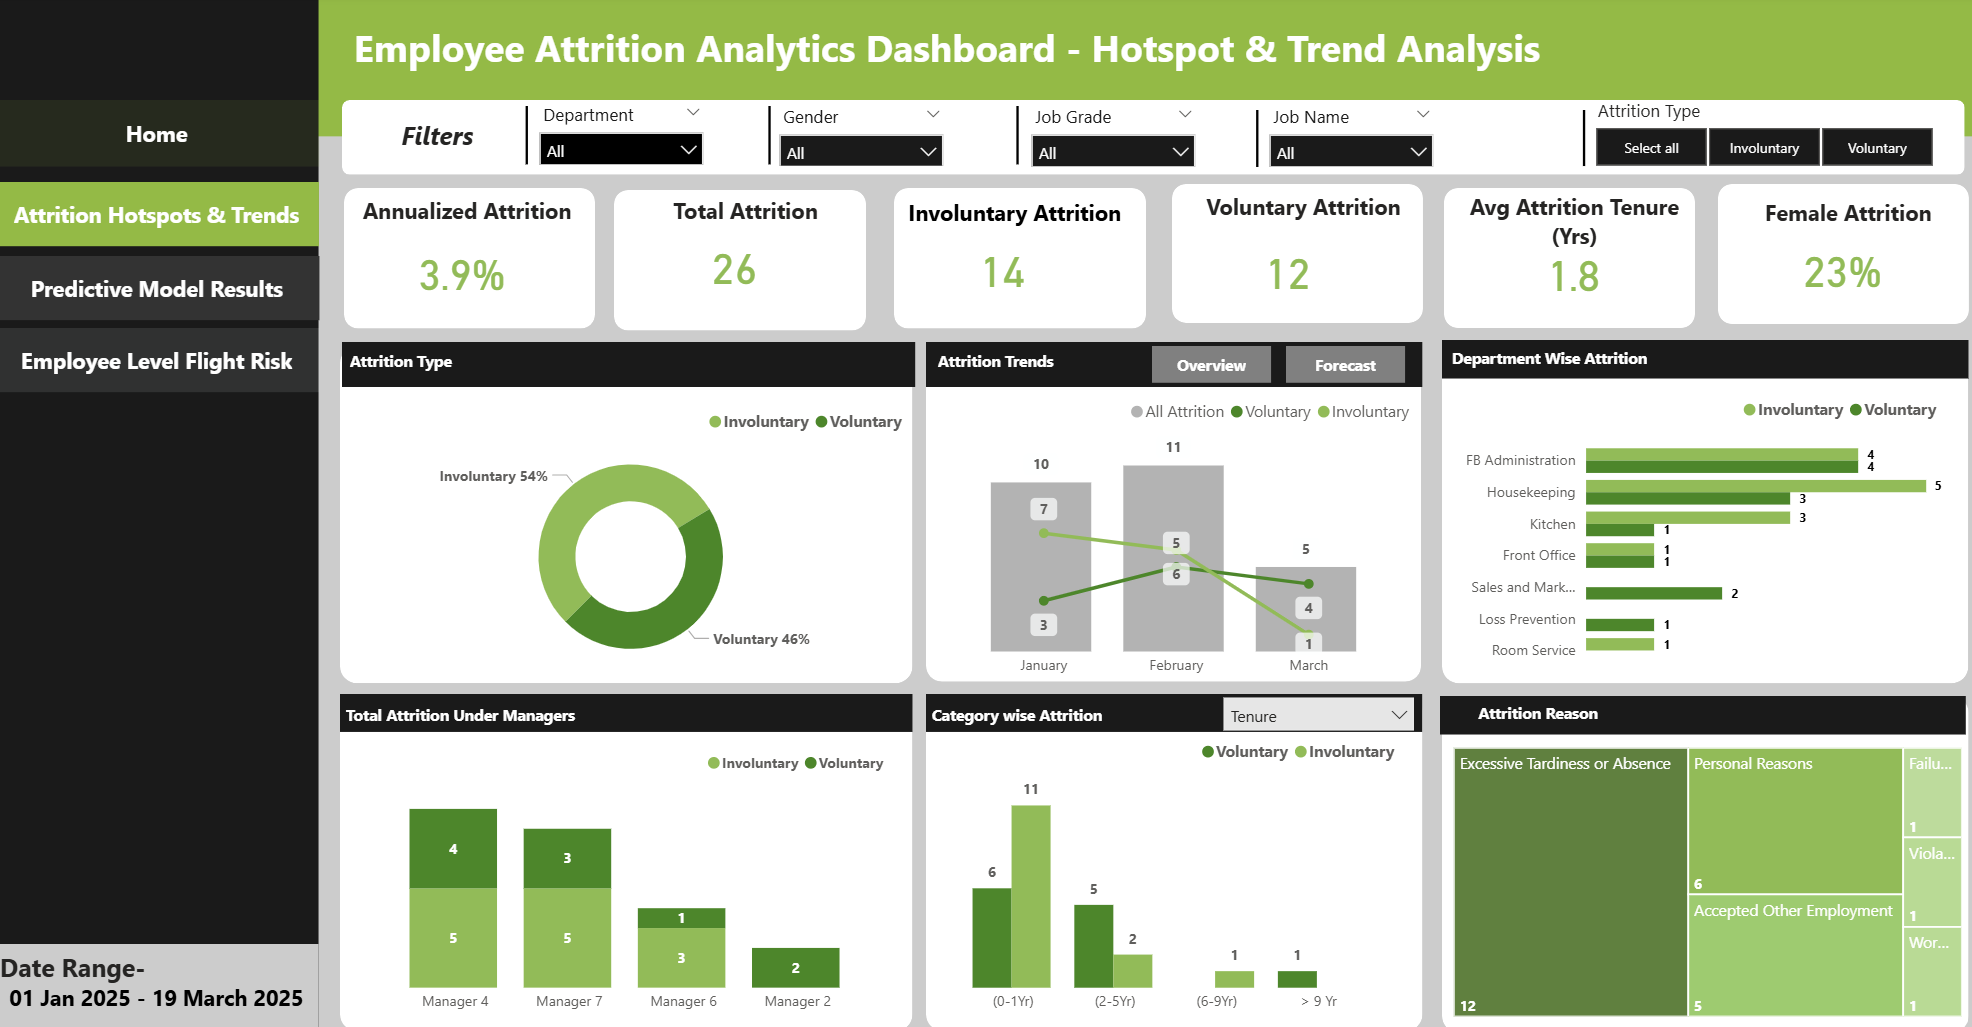

The page's visual inventory and layout, read from the dashboard file:
{"tool":"powerbi","page":{"name":"Attrition Hotspot & Trend analysis","canvas":[1720,900],"ordinal":1},"visuals":[{"type":"shape","box":[1009.2,162.3,215,119],"z":0,"group":"g2"},{"type":"shape","box":[1477.2,163.1,215,120],"z":0,"group":"g5"},{"type":"group","id":"g1","title":"Group 1","box":[1241.2,165.1,223.3,121.8],"z":0},{"type":"shape","box":[770.9,165.7,216,120.4],"z":0,"group":"g3"},{"type":"shape","box":[299.2,166.1,215,120.4],"z":0,"group":"g6"},{"type":"shape","box":[1241.7,166.9,215,120],"z":0,"group":"g1"},{"type":"shape","box":[530.6,167.2,216,120.4],"z":0,"group":"g4"},{"type":"group","id":"g2","title":"Group 1","box":[1009.2,162.3,225.4,119],"z":1000},{"type":"textbox","box":[773,168.4,203.5,41.5],"z":1000,"group":"g3"},{"type":"card","fields":{"Values":["Termination Report.TotalCount"]},"box":[555.5,199.2,154.4,66.8],"z":1000,"group":"g6"},{"type":"card","fields":{"Values":["Termination Report.InvolAtri"]},"box":[786.1,200.2,154.4,68.9],"z":1000,"group":"g4"},{"type":"textbox","box":[1009.2,163.7,225.4,57.9],"z":2000,"group":"g2"},{"type":"textbox","box":[1241.2,165.1,223.3,64.7],"z":2000,"group":"g1"},{"type":"group","id":"g3","title":"Group 1","box":[770.9,165.7,388.3,120.4],"z":2000},{"type":"textbox","box":[537.2,167.8,216.8,36.7],"z":2000,"group":"g4"},{"type":"textbox","box":[299.3,167.9,216,39.5],"z":2000,"group":"g6"},{"type":"textbox","box":[1477.2,169.7,223.3,36.7],"z":2000,"group":"g5"},{"type":"card","fields":{"Values":["Termination Report.VolAtri"]},"box":[1057.5,201,101.7,68.5],"z":2000,"group":"g3"},{"type":"card","fields":{"Values":["Avg(Termination Report.Tenure in Year)"]},"box":[1301.9,203.5,101.7,68.5],"z":3000},{"type":"group","id":"g4","title":"Group 1","box":[530.6,167.2,409.9,120.4],"z":4000},{"type":"shape","box":[797.6,600.2,425.3,288.9],"z":5000},{"type":"group","id":"g5","title":"Group 1","box":[1477.2,163.1,223.3,120],"z":6000},{"type":"shape","box":[0.5,0,215,120],"z":7000},{"type":"card","fields":{"Values":["Termination Report.Female Percentage"]},"box":[1519.3,200.3,127.3,68.9],"z":8000},{"type":"shape","box":[0,0,1720,121.9],"z":9000},{"type":"shape","box":[297.1,600.2,490.4,288.9],"z":10000},{"type":"shape","box":[297.1,600.2,490.4,32.6],"z":11000},{"type":"shape","box":[297.1,301.1,490.4,288.9],"z":12000},{"type":"shape","box":[297.7,297.7,490.9,38.6],"z":13000},{"type":"shape","box":[0,0,278,900],"z":14000},{"type":"textbox","box":[303.5,18.2,1395.7,57.1],"z":16000},{"type":"group","id":"g6","title":"Group 1","box":[299.2,166.1,410.7,120.4],"z":17000},{"type":"shape","box":[298,90,1390,64],"z":18000},{"type":"textbox","box":[328.3,100.4,101.9,48.9],"z":19000},{"type":"shape","box":[429.2,95.4,52.7,50],"z":20000},{"type":"slicer","fields":{"Values":["Termination Report.Job Name"]},"box":[1083.5,89.8,160.1,58.6],"z":21000},{"type":"slicer","fields":{"Values":["Termination Report.Sex"]},"box":[663,89.9,160,58],"z":22000},{"type":"slicer","fields":{"Values":["Termination Report.Department Name"]},"box":[456.8,87.9,160.1,58.6],"z":23000},{"type":"shape","box":[625.2,96.2,78,50],"z":24000},{"type":"shape","box":[837.2,96.2,78,50],"z":25000},{"type":"shape","box":[1240.4,301.2,450.9,289],"z":26000},{"type":"shape","box":[1239.5,601.9,451.2,288.5],"z":27000},{"type":"shape","box":[1239.7,296.7,451,33.2],"z":28000},{"type":"shape","box":[1239.1,601.2,450.4,33],"z":29000},{"type":"textbox","box":[297.1,602.3,225.9,36.6],"z":30000},{"type":"textbox","box":[299.1,299.1,211.6,36.6],"z":31000},{"type":"textbox","box":[1227.3,601.2,192,37.6],"z":32000},{"type":"treemap","fields":{"Group":["Termination Report.Attrition Reason"],"Values":["CountNonNull(Termination Report.EID)"]},"box":[1245.6,640.3,445.1,240.1],"z":33000},{"type":"clusteredBarChart","title":"Y_Attrition % and Attrition Count by Year","fields":{"Category":["Termination Report.Department Name"],"Y":["CountNonNull(Termination Report.EID)"],"Series":["Termination Report.Termination Type"]},"box":[1243.8,336.4,429.8,253.3],"z":37000},{"type":"textbox","box":[0,814,278.2,85.1],"z":40000},{"type":"slicer","fields":{"Values":["Termination Report.Job Grade"]},"box":[878.5,89.8,160.1,58.6],"z":41000},{"type":"shape","box":[1038.6,99.6,87.9,48.8],"z":42000},{"type":"actionButton","box":[0,161.4,278.3,55],"z":43000},{"type":"actionButton","box":[0,91.6,278.8,57],"z":44000},{"type":"actionButton","box":[0,286.9,278.8,54.9],"z":45000},{"type":"shape","box":[798.1,318.5,424.1,270.4],"z":46000},{"type":"lineStackedColumnComboChart","fields":{"Y":["CountNonNull(Termination Report.EID)"],"Y2":["Termination Report.VolAtri","Termination Report.InvolAtri"],"Category":["Termination Report.NMonth"]},"box":[803.7,337,418.5,255.6],"z":47000},{"type":"clusteredColumnChart","fields":{"Category":["Termination Report.Tenure_Group"],"Series":["Termination Report.Termination Type"],"Y":["CountNonNull(Termination Report.EID)"]},"box":[797.6,628.7,411,252.3],"z":48000},{"type":"textbox","box":[1243.2,278.8,248.2,50.9],"z":49000},{"type":"shape","box":[797.7,297.7,425,38.6],"z":50000},{"type":"shape","box":[797.6,600.2,425,32.6],"z":51000},{"type":"donutChart","fields":{"Y":["CountNonNull(Termination Report.EID)"],"Category":["Termination Report.Termination Type"]},"box":[303.2,345.9,484.3,242.1],"z":52000},{"type":"textbox","box":[797.6,602.3,189.2,38.7],"z":53000},{"type":"textbox","box":[803.7,299.1,205.5,34.6],"z":54000},{"type":"textbox","box":[1369.4,83.4,148.5,34.6],"z":55000},{"type":"slicer","fields":{"Values":["Termination Report.Termination Type"]},"box":[1347,107.8,338,46],"z":56000},{"type":"actionButton","box":[0,223.8,278.8,54.9],"z":57000},{"type":"slicer","fields":{"Values":["AttritionParameter.AttritionParameter"]},"box":[1043.8,592.1,183.1,40.7],"z":58000},{"type":"columnChart","fields":{"Category":["Termination Report.newManagerName"],"Y":["Termination Report.Top 3 Managers Attrition"],"Series":["Termination Report.Termination Type"]},"box":[311.3,638.9,459.8,242.1],"z":59000},{"type":"card","fields":{"Values":["Termination Report.Annualized Attrition %"]},"box":[341.8,203.5,116,67.1],"z":61000},{"type":"shape","box":[1302.3,100.2,120,48],"z":62000},{"type":"actionButton","box":[992.6,301.9,101.9,31.5],"z":63000},{"type":"actionButton","box":[1107.4,301.9,101.9,31.5],"z":64000}]}

Visuals, with their boxes on the page's 1720x900 design canvas (x1, y1, x2, y2). These are canvas units, not pixel positions in the 1972x1027 screenshot, which may show the page scaled, cropped or inside an application window:
shape: [x1=1009, y1=162, x2=1224, y2=281]
shape: [x1=1477, y1=163, x2=1692, y2=283]
"Group 1" group: [x1=1241, y1=165, x2=1464, y2=287]
shape: [x1=771, y1=166, x2=987, y2=286]
shape: [x1=299, y1=166, x2=514, y2=286]
shape: [x1=1242, y1=167, x2=1457, y2=287]
shape: [x1=531, y1=167, x2=747, y2=288]
"Group 1" group: [x1=1009, y1=162, x2=1235, y2=281]
textbox: [x1=773, y1=168, x2=976, y2=210]
card - Termination Report.TotalCount: [x1=556, y1=199, x2=710, y2=266]
card - Termination Report.InvolAtri: [x1=786, y1=200, x2=940, y2=269]
textbox: [x1=1009, y1=164, x2=1235, y2=222]
textbox: [x1=1241, y1=165, x2=1464, y2=230]
"Group 1" group: [x1=771, y1=166, x2=1159, y2=286]
textbox: [x1=537, y1=168, x2=754, y2=204]
textbox: [x1=299, y1=168, x2=515, y2=207]
textbox: [x1=1477, y1=170, x2=1700, y2=206]
card - Termination Report.VolAtri: [x1=1058, y1=201, x2=1159, y2=270]
card - Avg(Termination Report.Tenure in Year): [x1=1302, y1=204, x2=1404, y2=272]
"Group 1" group: [x1=531, y1=167, x2=940, y2=288]
shape: [x1=798, y1=600, x2=1223, y2=889]
"Group 1" group: [x1=1477, y1=163, x2=1700, y2=283]
shape: [x1=0, y1=0, x2=216, y2=120]
card - Termination Report.Female Percentage: [x1=1519, y1=200, x2=1647, y2=269]
shape: [x1=0, y1=0, x2=1720, y2=122]
shape: [x1=297, y1=600, x2=788, y2=889]
shape: [x1=297, y1=600, x2=788, y2=633]
shape: [x1=297, y1=301, x2=788, y2=590]
shape: [x1=298, y1=298, x2=789, y2=336]
shape: [x1=0, y1=0, x2=278, y2=900]
textbox: [x1=304, y1=18, x2=1699, y2=75]
"Group 1" group: [x1=299, y1=166, x2=710, y2=286]
shape: [x1=298, y1=90, x2=1688, y2=154]
textbox: [x1=328, y1=100, x2=430, y2=149]
shape: [x1=429, y1=95, x2=482, y2=145]
slicer - Termination Report.Job Name: [x1=1084, y1=90, x2=1244, y2=148]
slicer - Termination Report.Sex: [x1=663, y1=90, x2=823, y2=148]
slicer - Termination Report.Department Name: [x1=457, y1=88, x2=617, y2=146]
shape: [x1=625, y1=96, x2=703, y2=146]
shape: [x1=837, y1=96, x2=915, y2=146]
shape: [x1=1240, y1=301, x2=1691, y2=590]
shape: [x1=1240, y1=602, x2=1691, y2=890]
shape: [x1=1240, y1=297, x2=1691, y2=330]
shape: [x1=1239, y1=601, x2=1690, y2=634]
textbox: [x1=297, y1=602, x2=523, y2=639]
textbox: [x1=299, y1=299, x2=511, y2=336]
textbox: [x1=1227, y1=601, x2=1419, y2=639]
treemap - Termination Report.Attrition Reason x CountNonNull(Termination Report.EID): [x1=1246, y1=640, x2=1691, y2=880]
"Y_Attrition % and Attrition Count by Year" clusteredBarChart: [x1=1244, y1=336, x2=1674, y2=590]
textbox: [x1=0, y1=814, x2=278, y2=899]
slicer - Termination Report.Job Grade: [x1=878, y1=90, x2=1039, y2=148]
shape: [x1=1039, y1=100, x2=1126, y2=148]
actionButton: [x1=0, y1=161, x2=278, y2=216]
actionButton: [x1=0, y1=92, x2=279, y2=149]
actionButton: [x1=0, y1=287, x2=279, y2=342]
shape: [x1=798, y1=318, x2=1222, y2=589]
lineStackedColumnComboChart - CountNonNull(Termination Report.EID) x Termination Report.VolAtri: [x1=804, y1=337, x2=1222, y2=593]
clusteredColumnChart - Termination Report.Tenure_Group x Termination Report.Termination Type: [x1=798, y1=629, x2=1209, y2=881]
textbox: [x1=1243, y1=279, x2=1491, y2=330]
shape: [x1=798, y1=298, x2=1223, y2=336]
shape: [x1=798, y1=600, x2=1223, y2=633]
donutChart - CountNonNull(Termination Report.EID) x Termination Report.Termination Type: [x1=303, y1=346, x2=788, y2=588]
textbox: [x1=798, y1=602, x2=987, y2=641]
textbox: [x1=804, y1=299, x2=1009, y2=334]
textbox: [x1=1369, y1=83, x2=1518, y2=118]
slicer - Termination Report.Termination Type: [x1=1347, y1=108, x2=1685, y2=154]
actionButton: [x1=0, y1=224, x2=279, y2=279]
slicer - AttritionParameter.AttritionParameter: [x1=1044, y1=592, x2=1227, y2=633]
columnChart - Termination Report.newManagerName x Termination Report.Top 3 Managers Attrition: [x1=311, y1=639, x2=771, y2=881]
card - Termination Report.Annualized Attrition %: [x1=342, y1=204, x2=458, y2=271]
shape: [x1=1302, y1=100, x2=1422, y2=148]
actionButton: [x1=993, y1=302, x2=1094, y2=333]
actionButton: [x1=1107, y1=302, x2=1209, y2=333]
